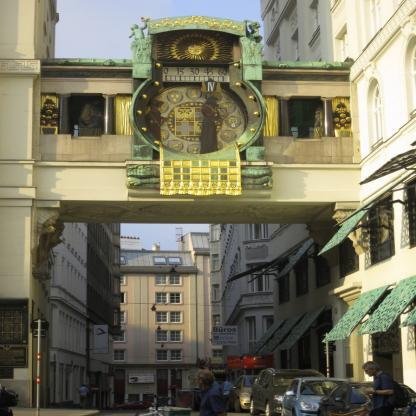Car: (247, 368, 327, 416), (314, 379, 416, 416), (285, 376, 370, 416), (236, 377, 260, 412)
